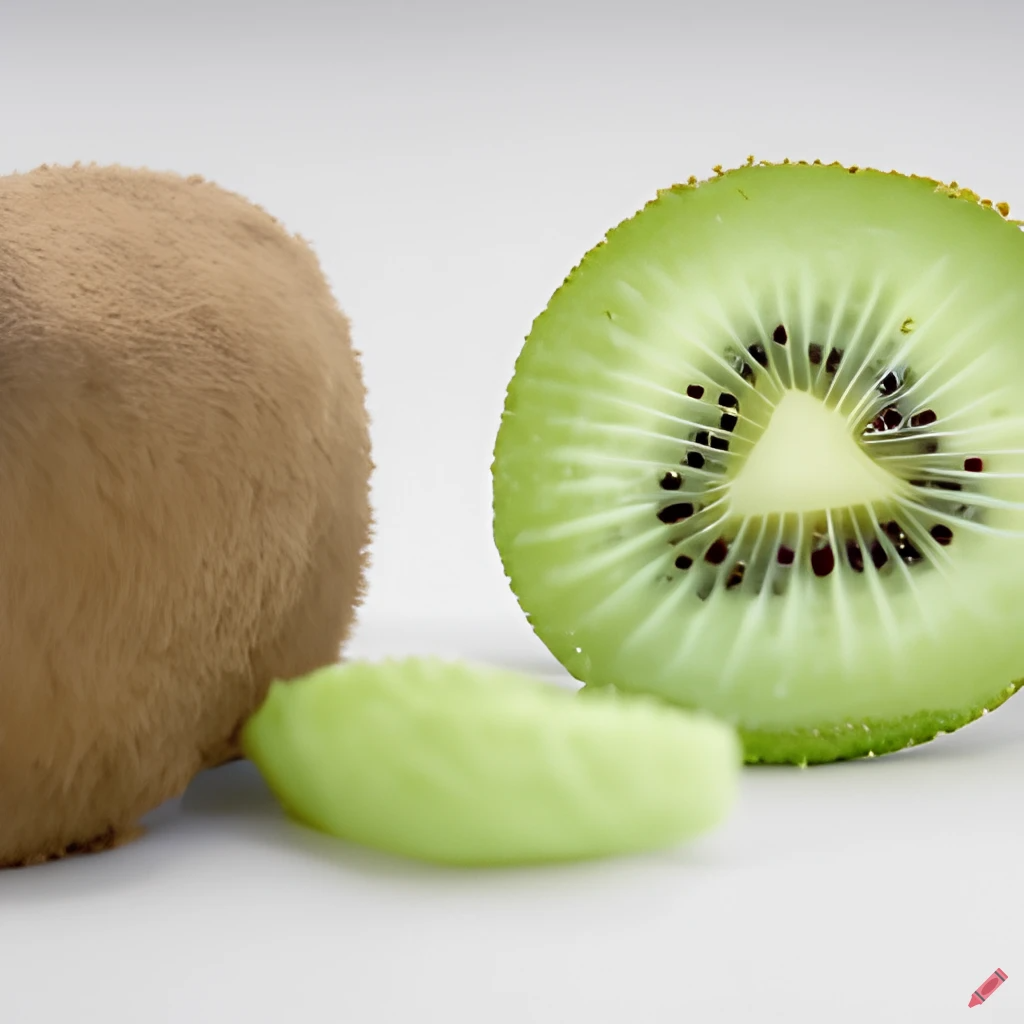Kiwi: (479, 107, 1012, 798)
